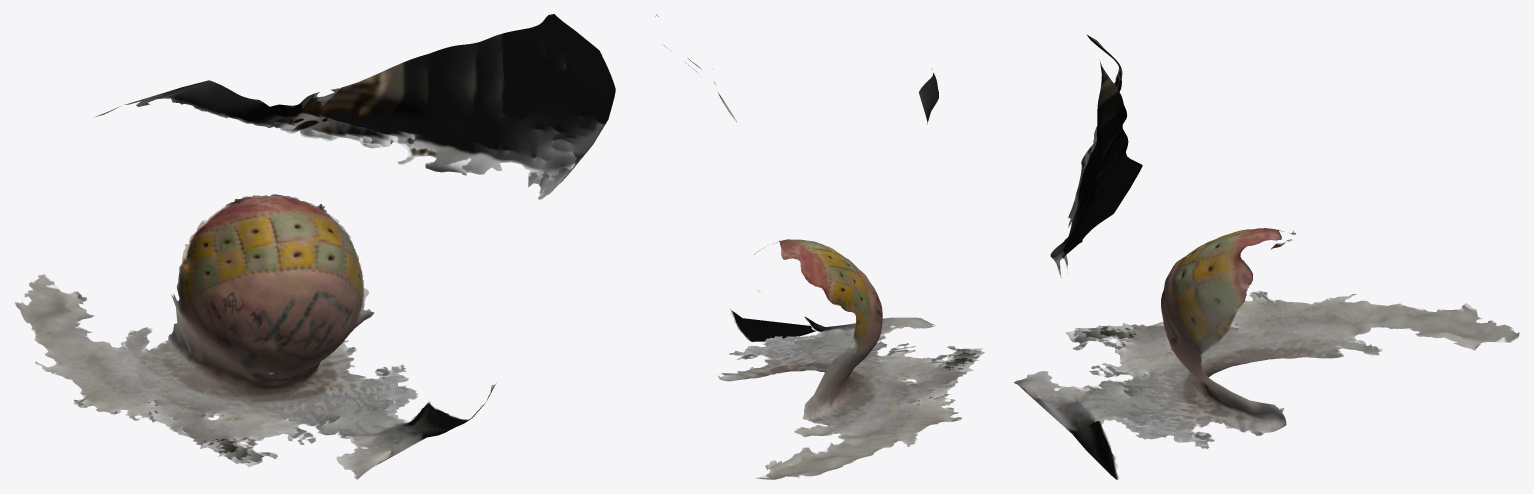
3 views of the same model, side by side, from view 1: azimuth 30°, elevation 25°; view 2: azimuth 150°, elevation 25°; view 3: azimuth 270°, elevation 25° (orthographic). The views are drawn at different scales.
Bounding box in the file's own units: 1.02 × 0.8077 × 1.03.
Materials: 1 (1 with a texture image).
